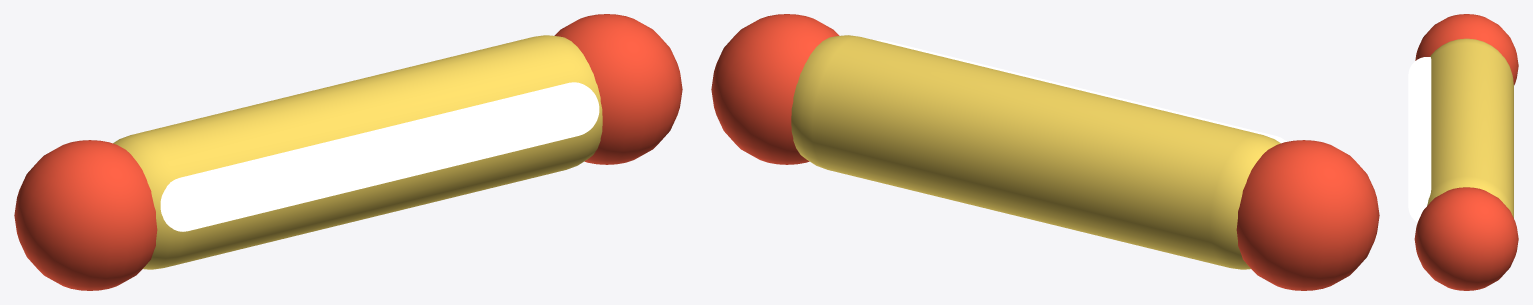
The model's file is palka.glb.
3 views of the same model, side by side, from view 1: azimuth 30°, elevation 25°; view 2: azimuth 150°, elevation 25°; view 3: azimuth 270°, elevation 25° (orthographic). The views are drawn at different scales.
Parts seen in each view (by area): view 1: palka_m, palka_pruh, palka_konec_-1, palka; view 2: palka_m, palka_konec_-1, palka, palka_pruh; view 3: palka_m, palka, palka_pruh, palka_konec_-1.
Boxes of the visible parts, box(x1,y1,x2,y2) form: palka_m: box(113, 35, 602, 269); palka_pruh: box(160, 82, 599, 231); palka_konec_-1: box(14, 140, 157, 290); palka: box(554, 14, 682, 164); palka_m: box(791, 35, 1280, 269); palka_konec_-1: box(1236, 140, 1379, 290); palka: box(711, 14, 839, 164); palka_pruh: box(876, 40, 1286, 143); palka_m: box(1427, 38, 1513, 217); palka: box(1414, 187, 1518, 290); palka_pruh: box(1408, 57, 1431, 222); palka_konec_-1: box(1415, 14, 1518, 85).
Size of the model in its own units: 3.26 by 0.66 by 0.7.
